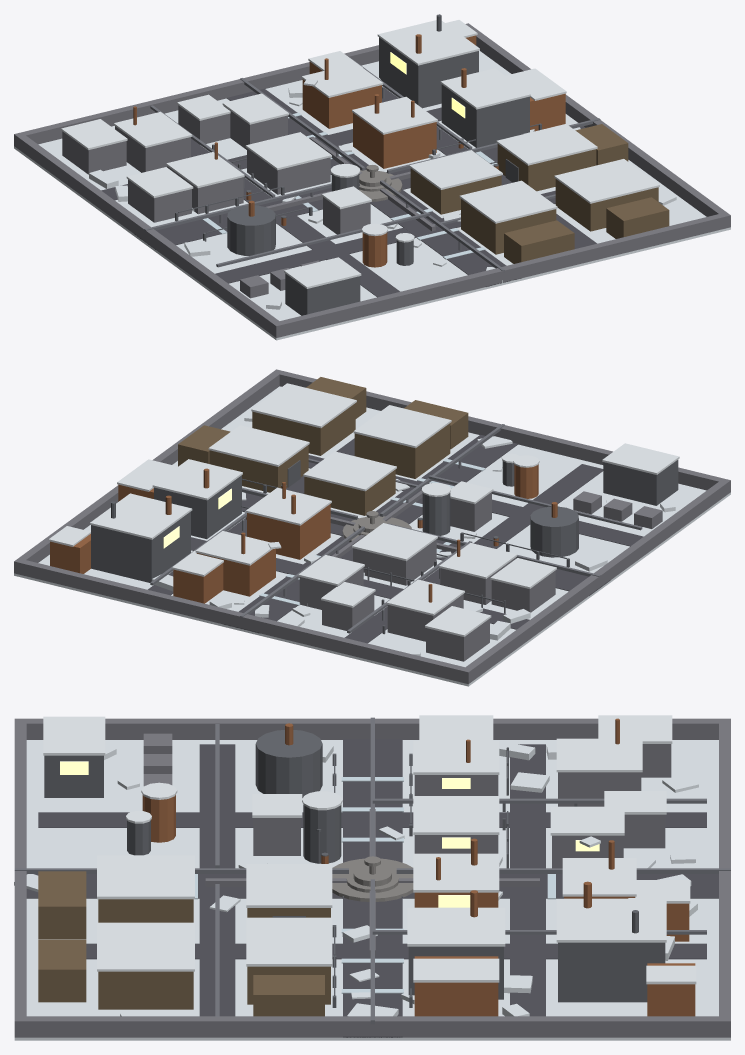
Rendered from DAYMINICITY.fbx.
3 renders of one model, top to bottom at view 1: azimuth 30°, elevation 25°; view 2: azimuth 150°, elevation 25°; view 3: azimuth 270°, elevation 25°, orthographic. The views are drawn at different scales.
Visible parts, largest first — view 1: Ground, Wall_S, Wall_W, Wall_N, St_NS, Wall_E, WS_D1, WS_C1, WS_A1, WH_D1_R, WS_D1_R, WH_C1_R (+47 smaller); view 2: Ground, Wall_N, Wall_W, WS_D1, Wall_S, St_NS, Wall_E, WH_C1, WH_D1_R, WS_A1, WS_D1_R, WH_C1_R (+51 smaller); view 3: Ground, Wall_E, St_EW, Wall_W, WS_D1, WH_D1_R, WS_D1_R, WH_C1_R, WH_B1_R, St_SW_H, BigTank, Wall_S (+62 smaller).
Part boxes in pixels (<box>): Ground: <box>14,50,730,340</box>; Wall_S: <box>272,214,730,337</box>; Wall_W: <box>14,132,283,337</box>; Wall_N: <box>14,23,469,147</box>; St_NS: <box>226,88,521,286</box>; Wall_E: <box>465,23,730,228</box>; WS_D1: <box>379,37,478,108</box>; WS_C1: <box>441,84,529,147</box>; WS_A1: <box>353,113,436,168</box>; WH_D1_R: <box>554,159,659,203</box>; WS_D1_R: <box>377,20,479,65</box>; WH_C1_R: <box>459,180,557,223</box>; Ground: <box>14,386,730,686</box>; Wall_N: <box>14,560,472,684</box>; Wall_W: <box>461,478,730,683</box>; WS_D1: <box>91,511,190,582</box>; Wall_S: <box>272,371,730,491</box>; St_NS: <box>223,435,518,633</box>; Wall_E: <box>14,369,283,574</box>; WH_C1: <box>354,423,450,478</box>; WH_D1_R: <box>251,383,356,428</box>; WS_A1: <box>247,504,330,559</box>; WS_D1_R: <box>90,493,192,539</box>; WH_C1_R: <box>353,405,451,448</box>; Ground: <box>14,740,730,1040</box>; Wall_E: <box>14,1016,730,1037</box>; St_EW: <box>343,739,402,1037</box>; Wall_W: <box>16,718,730,739</box>; WS_D1: <box>558,942,665,1002</box>; WH_D1_R: <box>97,922,194,971</box>; WS_D1_R: <box>556,898,666,942</box>; WH_C1_R: <box>97,855,194,899</box>; WH_B1_R: <box>246,917,332,966</box>; St_SW_H: <box>199,744,235,868</box>; BigTank: <box>255,730,322,797</box>; Wall_S: <box>14,718,26,1037</box>.
Bounding box in the file's own units: 6000 × 1015 × 6005.
